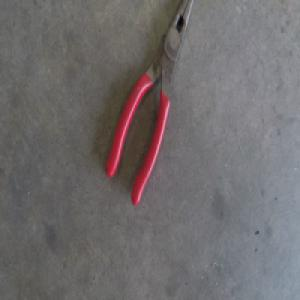Pliers: (104, 0, 191, 205)
